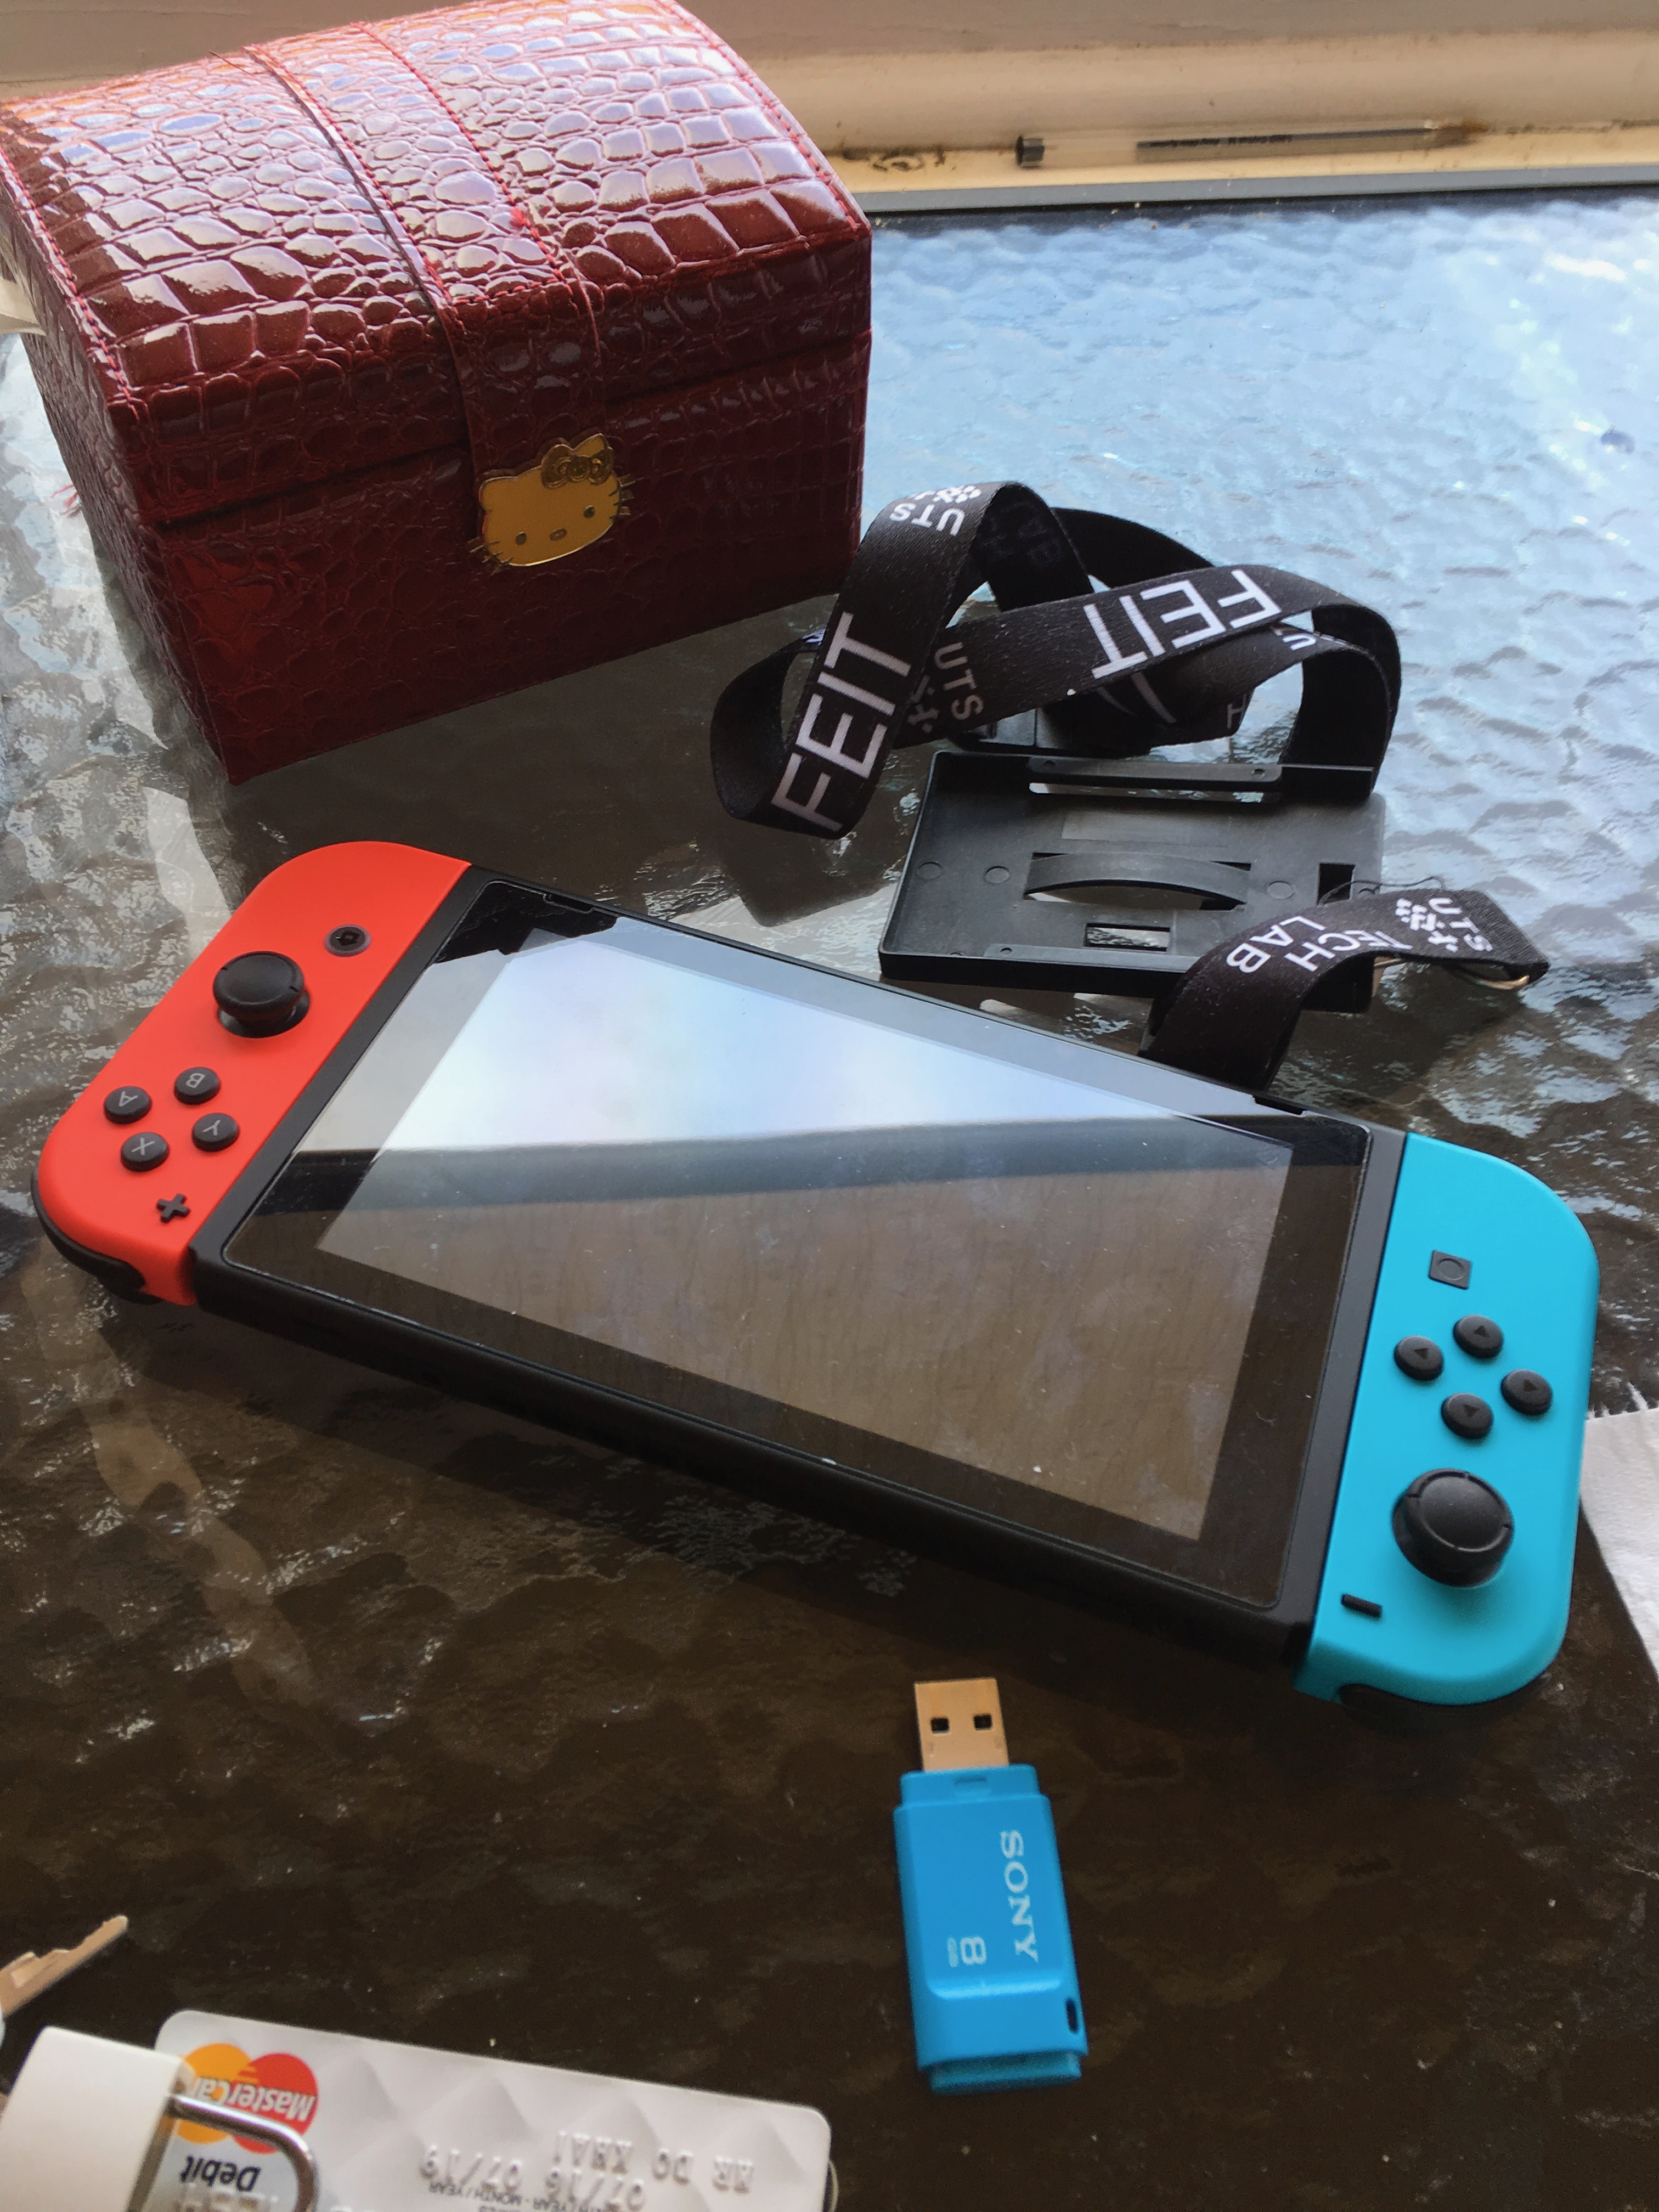NintendoSwitch: (26, 826, 1628, 1749)
